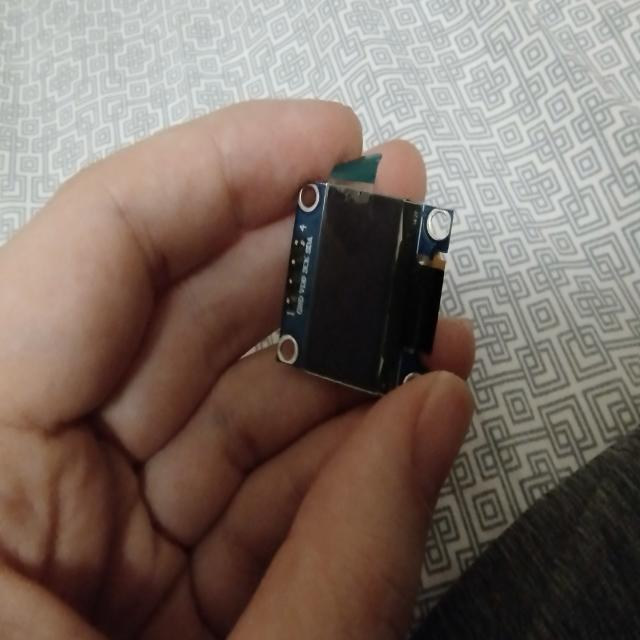oled: (275, 150, 454, 410)
